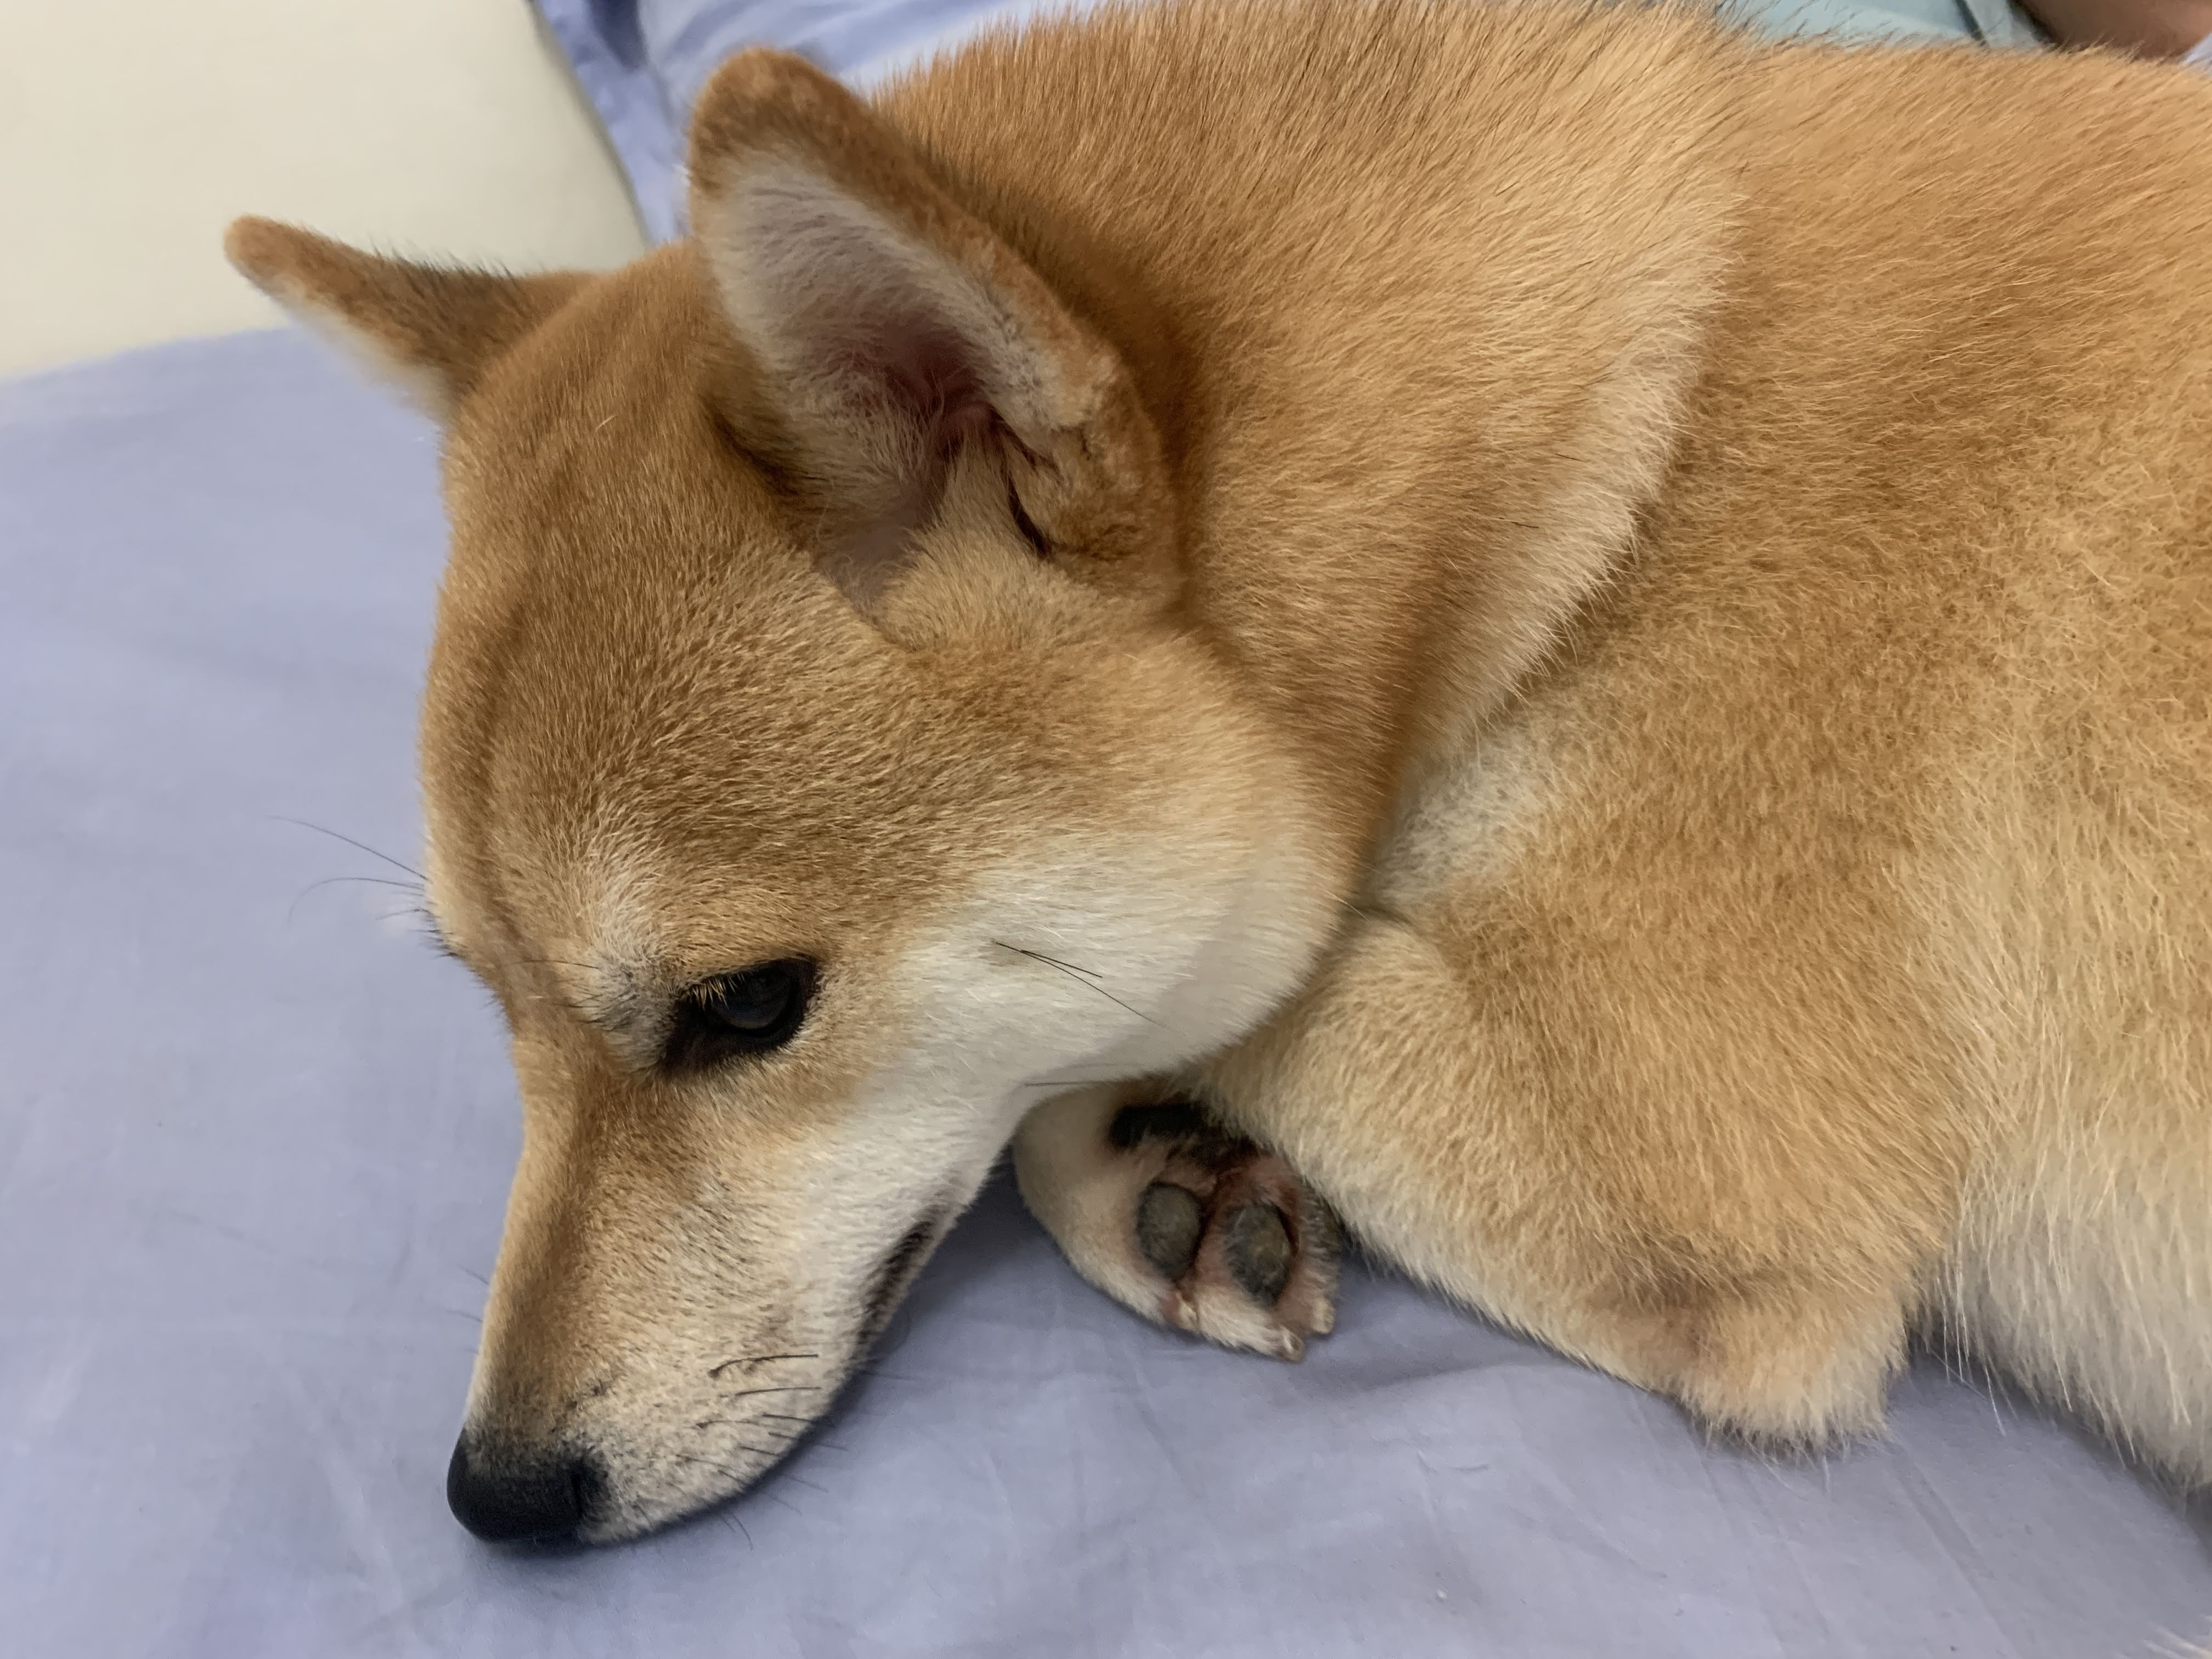Get down: (172, 23, 2212, 1574)
